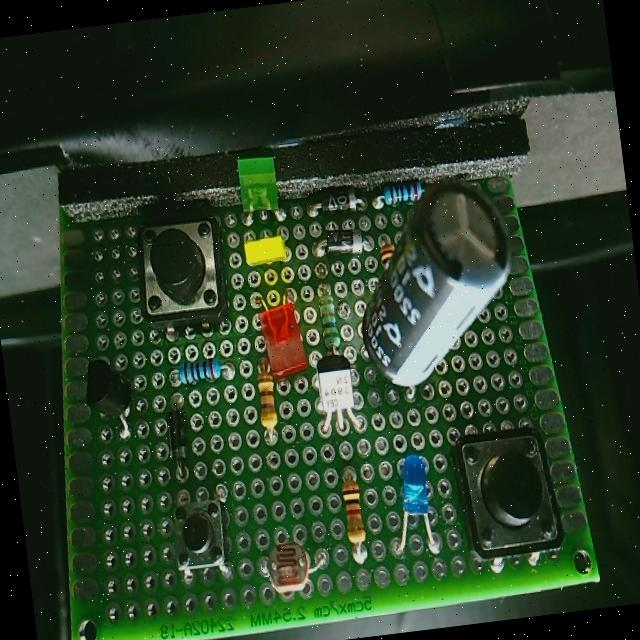Electrolytic capacitor: (344, 170, 528, 396)
cds: (256, 536, 316, 598)
diode: (158, 406, 202, 481), (310, 220, 368, 266), (304, 182, 364, 219)
led: (380, 444, 442, 554), (256, 290, 314, 378), (231, 147, 288, 232), (238, 232, 291, 284)
resistor: (336, 481, 384, 558), (166, 344, 230, 390), (370, 168, 428, 210), (253, 368, 285, 436), (316, 288, 344, 357), (374, 230, 398, 260)
switch: (450, 417, 569, 565), (126, 205, 230, 326), (162, 486, 244, 581)
transistor: (80, 358, 146, 430), (302, 356, 362, 427)
